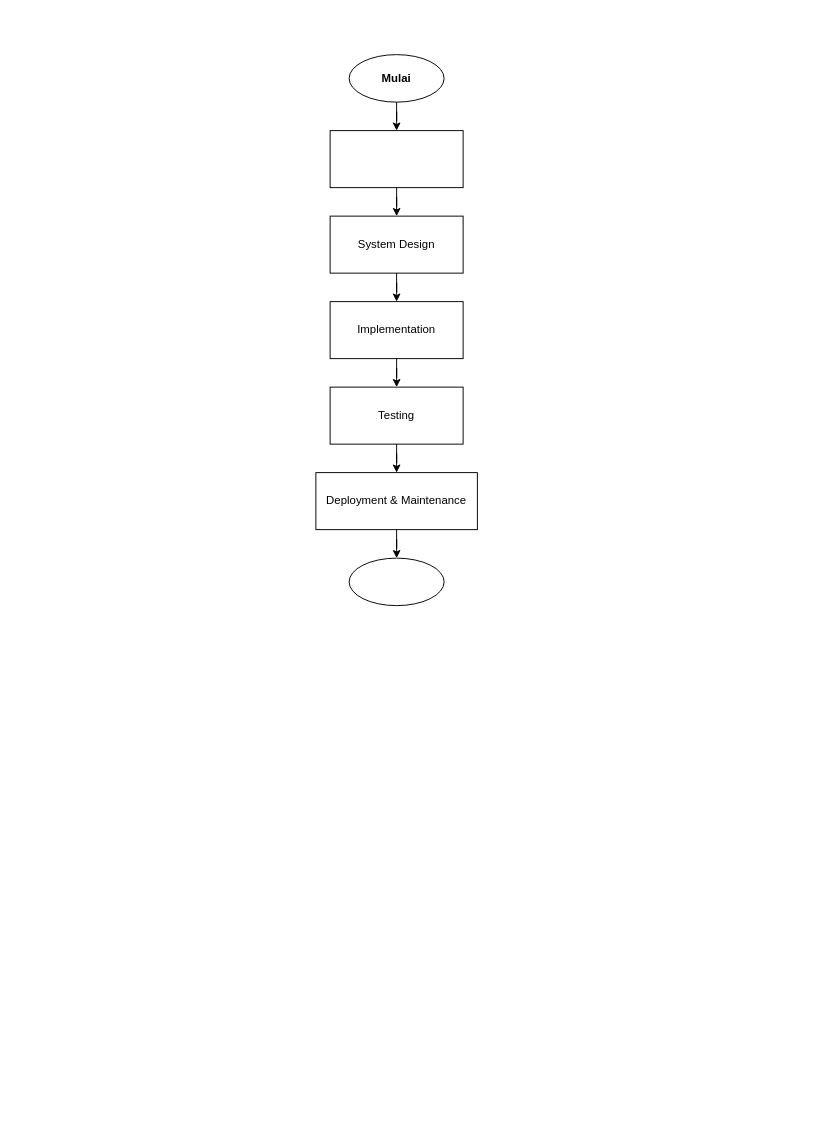
This 818x1143 diagram has some shape labels left out. The box of each missing label's shape, as (x1, y1, x2, y2) in pixels:
Requirement Analysis: (329, 130, 463, 188)
Selesai: (348, 557, 444, 606)
